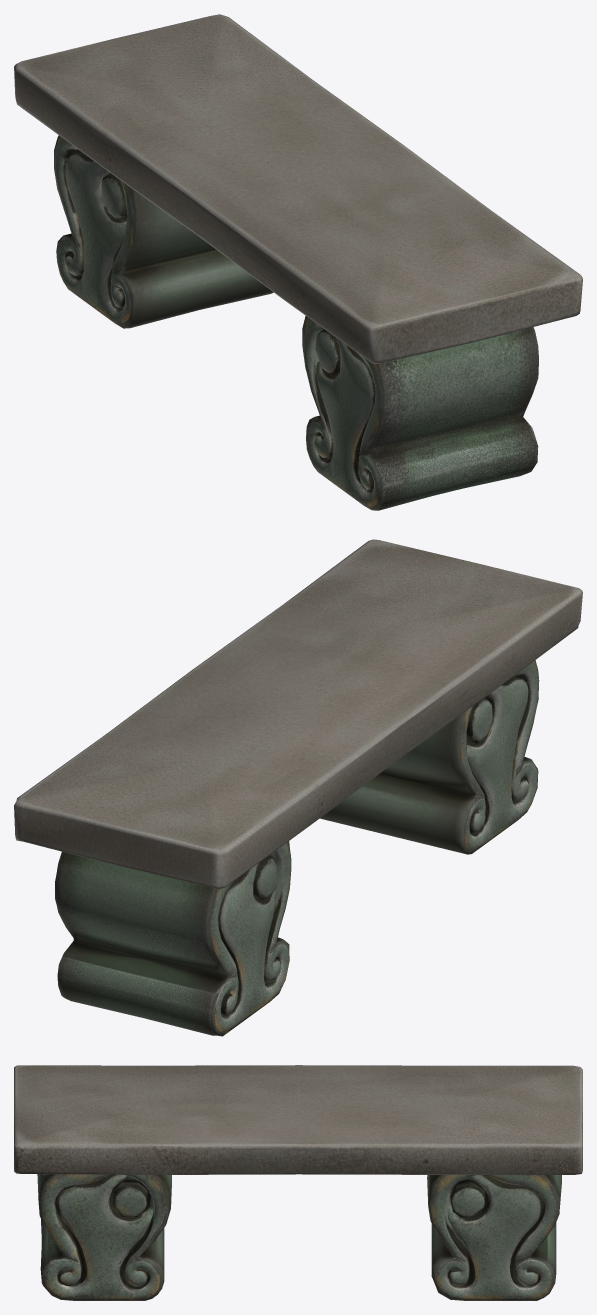
File: tripo_convert_1a2bfa78-12c7-4513-b337-2451e8ef6b2d.fbx
The picture shows the model from 3 angles, top to bottom: view 1: azimuth 30°, elevation 25°; view 2: azimuth 150°, elevation 25°; view 3: azimuth 270°, elevation 25°; orthographic projection. The views are drawn at different scales.
Visible parts, largest first — view 1: tripo_node_1a2bfa78; view 2: tripo_node_1a2bfa78; view 3: tripo_node_1a2bfa78.
Boxes of the visible parts, x1,y1,x2,y2 form: tripo_node_1a2bfa78: [14, 14, 582, 510]; tripo_node_1a2bfa78: [14, 539, 582, 1036]; tripo_node_1a2bfa78: [14, 1065, 582, 1300].
Bounding box in the file's own units: 0.3418 × 0.3223 × 0.998.
1 material, 1 textured.
